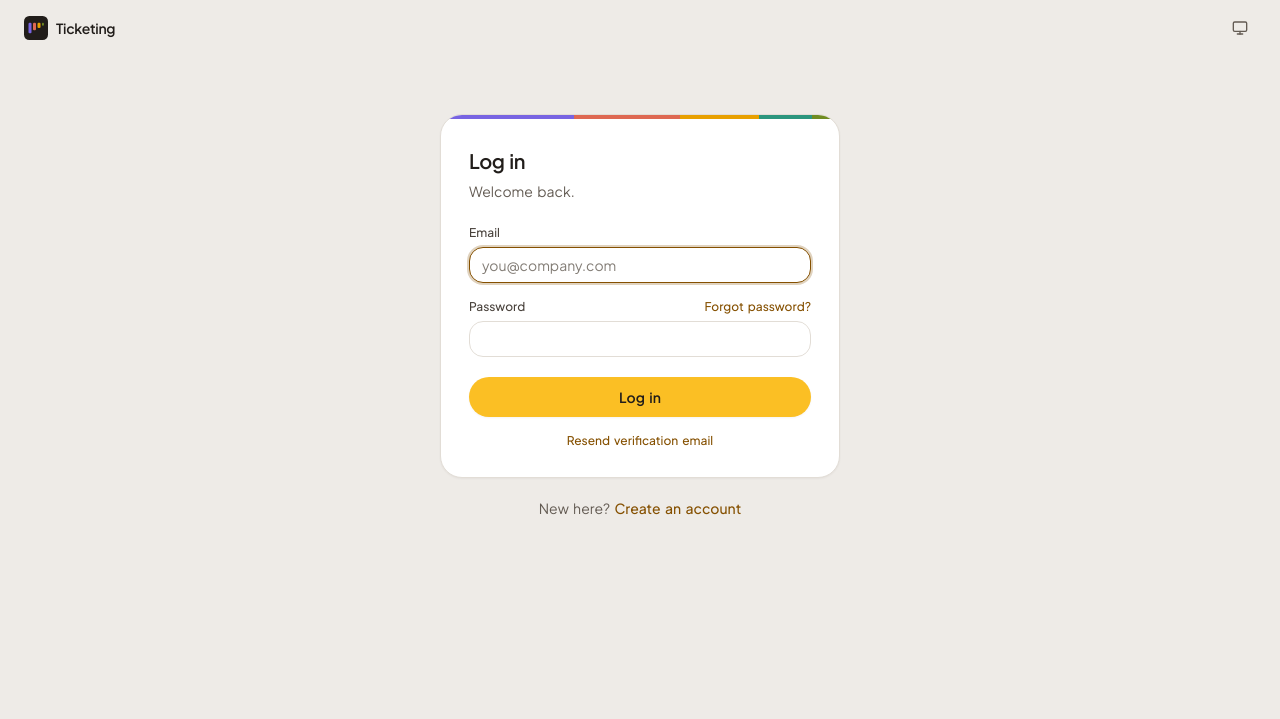
it: LoginPage › offers to resend the verification email before any login attempt
Click the button "Resend verification email": point(640, 441) [567,433,713,449]
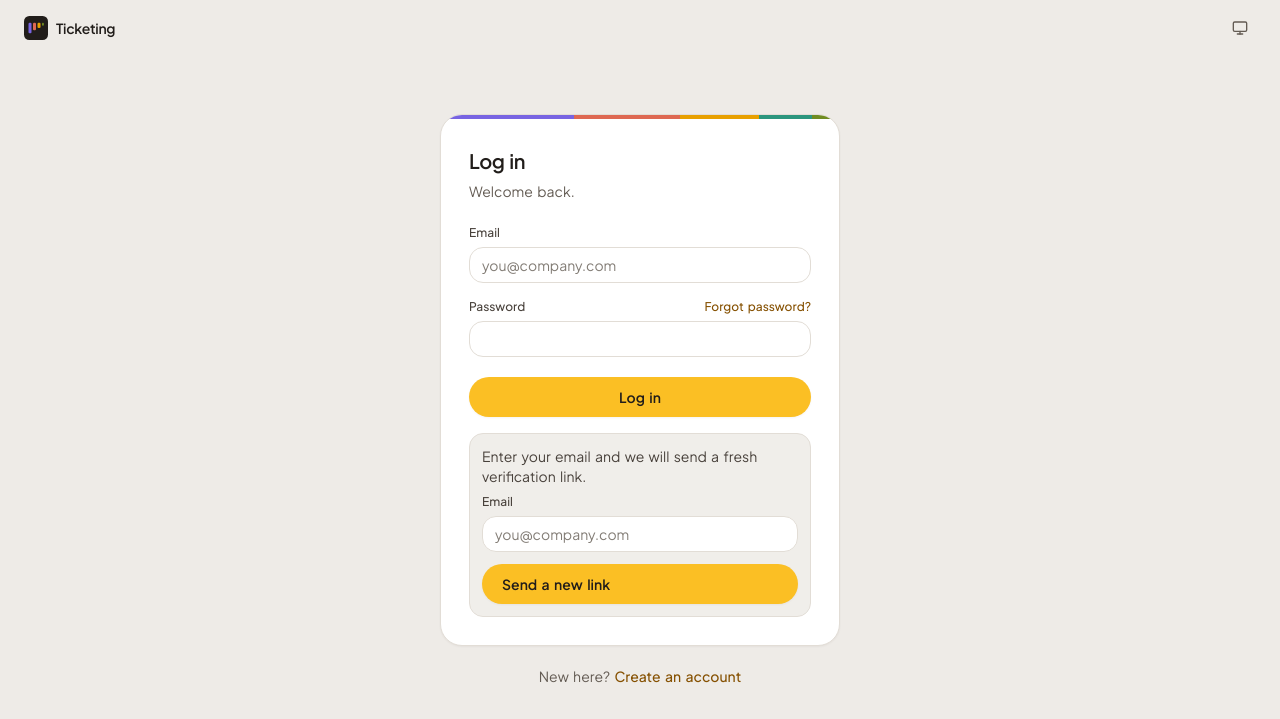
In the 2nd field labelled "Email": point(640, 534) [482,516,798,552], type "late@example.com"
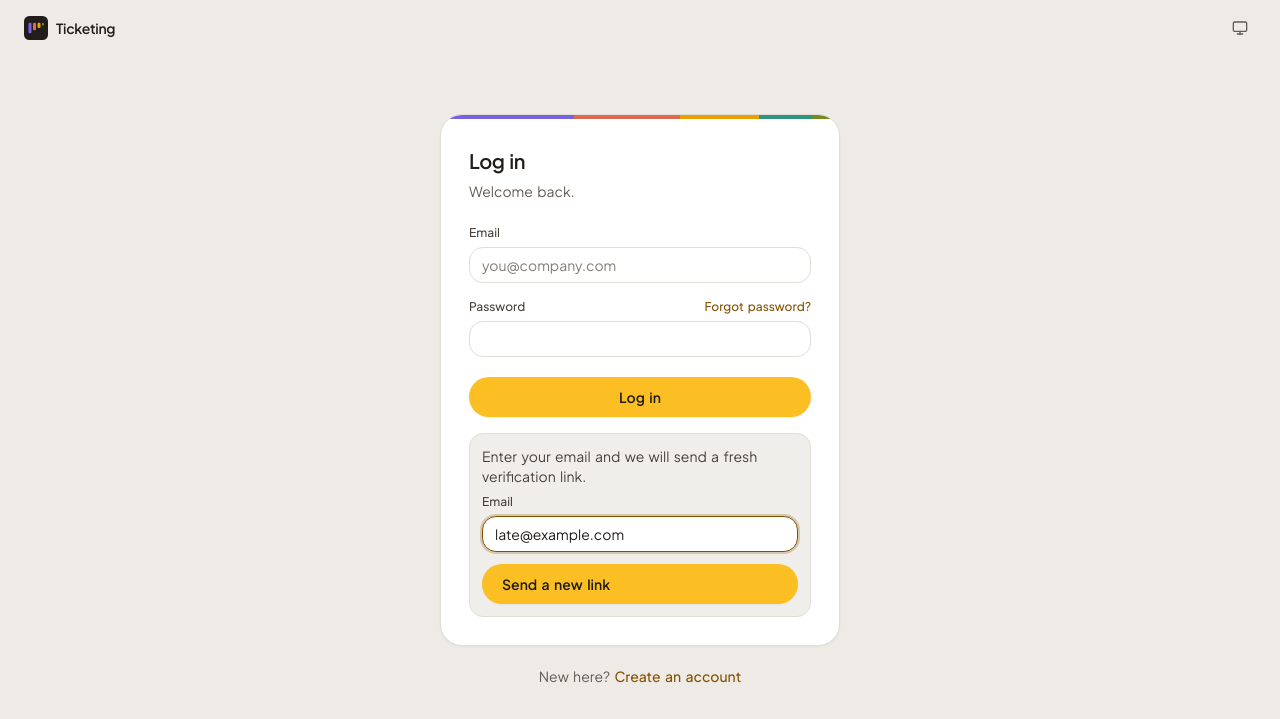
Click the button "Send a new link": point(556, 584) [482,564,798,604]
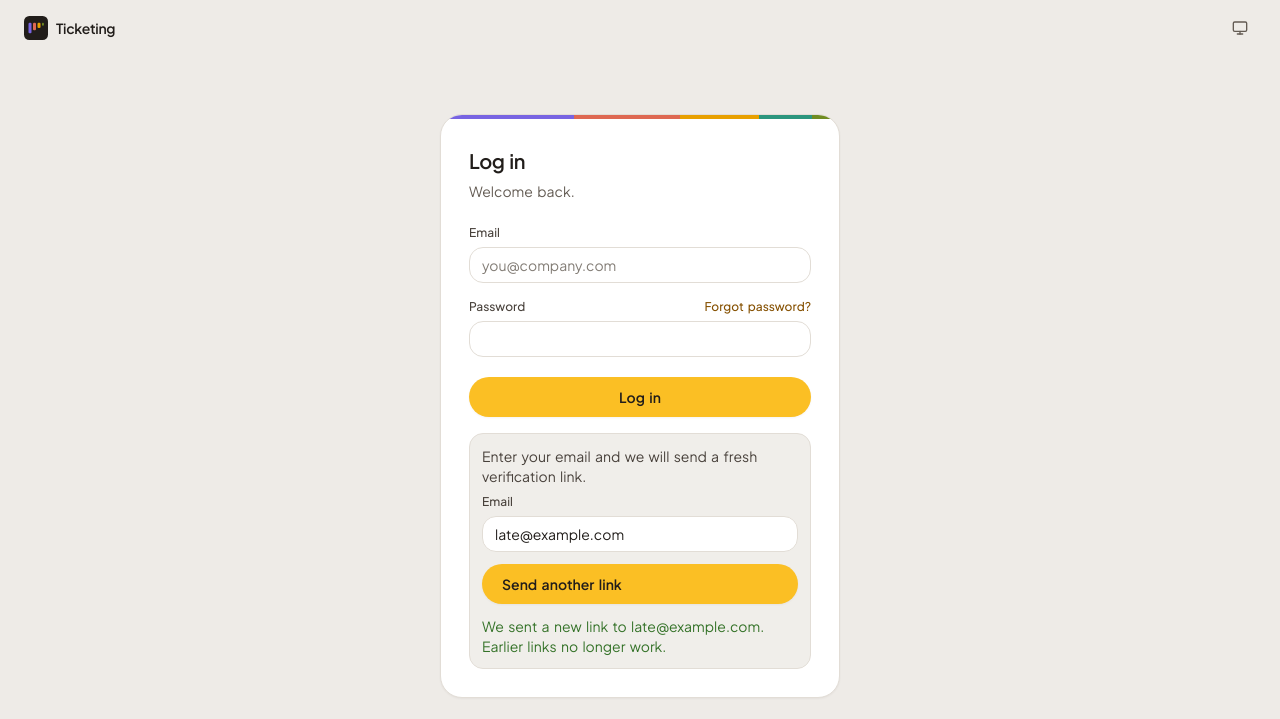
Result: the text "We sent a new link to late@example.com. Earlier links no longer work." is shown at [482,616,798,656]
